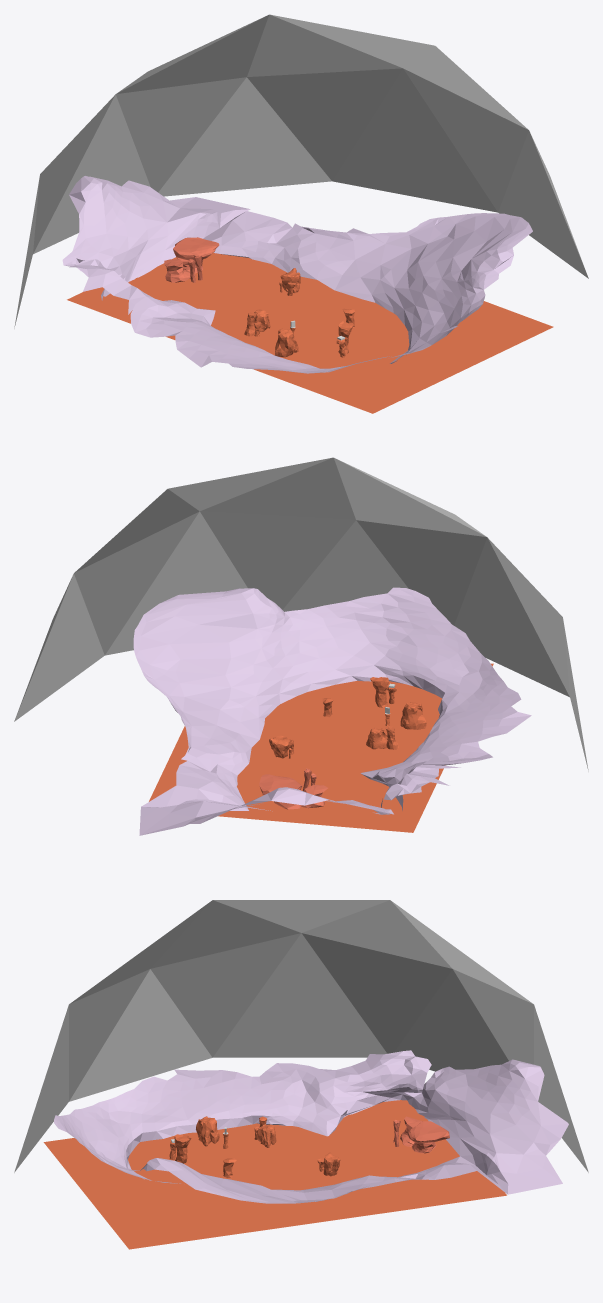
Rendered from canyon5.glb.
3 renders of one model, top to bottom at view 1: azimuth 30°, elevation 25°; view 2: azimuth 150°, elevation 25°; view 3: azimuth 270°, elevation 25°, orthographic. The views are drawn at different scales.
Visible parts, largest first — view 1: Icosphere, Cylinder.011, Plane, far_rock1; view 2: Icosphere, Cylinder.011, Plane, far_rock1, Cylinder; view 3: Icosphere, Cylinder.011, Plane, far_rock1, Cylinder.
Boxes of the visible parts, bbox=[...] form: Icosphere: bbox=[14, 14, 588, 328]; Cylinder.011: bbox=[62, 176, 532, 373]; Plane: bbox=[67, 253, 553, 413]; far_rock1: bbox=[173, 237, 219, 273]; Icosphere: bbox=[14, 457, 588, 771]; Cylinder.011: bbox=[133, 587, 531, 835]; Plane: bbox=[149, 663, 493, 832]; far_rock1: bbox=[259, 774, 302, 809]; Cylinder: bbox=[400, 702, 426, 729]; Icosphere: bbox=[14, 900, 588, 1172]; Cylinder.011: bbox=[54, 1050, 568, 1203]; Plane: bbox=[43, 1100, 506, 1249]; far_rock1: bbox=[407, 1121, 449, 1153]; Cylinder: bbox=[196, 1116, 219, 1146].
Bounding box in the file's own units: 1902 × 1013 × 2000.
